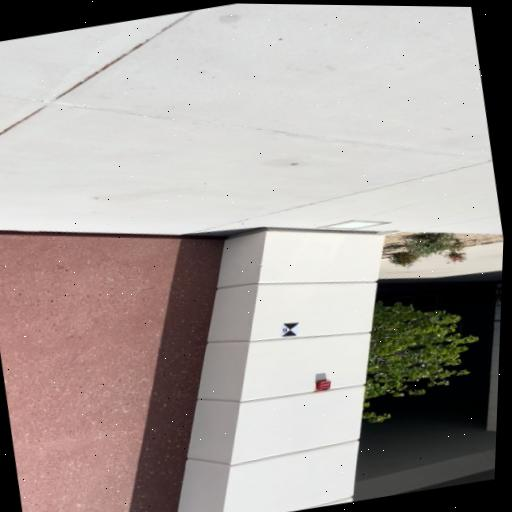target6: (276, 322, 300, 336)
